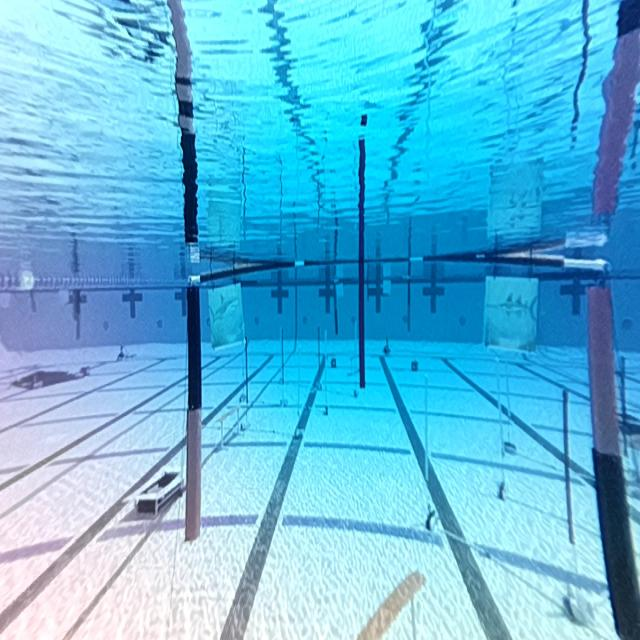pointed_nose: (482, 274, 536, 352)
round_nose: (208, 282, 245, 350)
